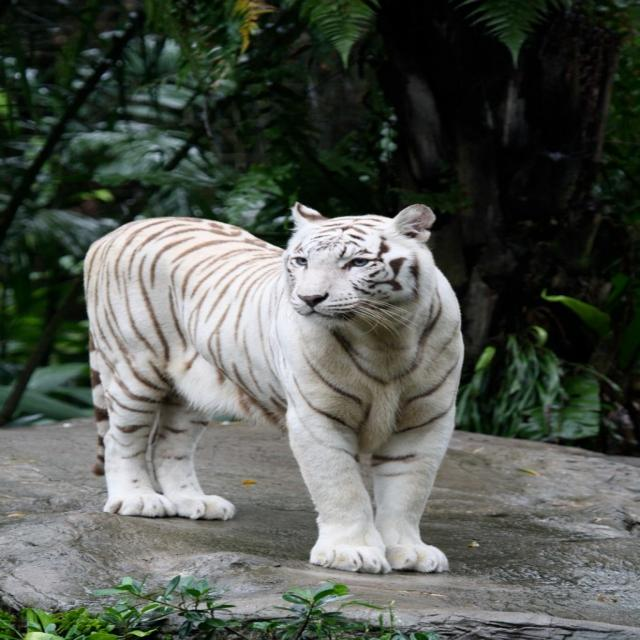Tiger: (80, 197, 454, 578)
